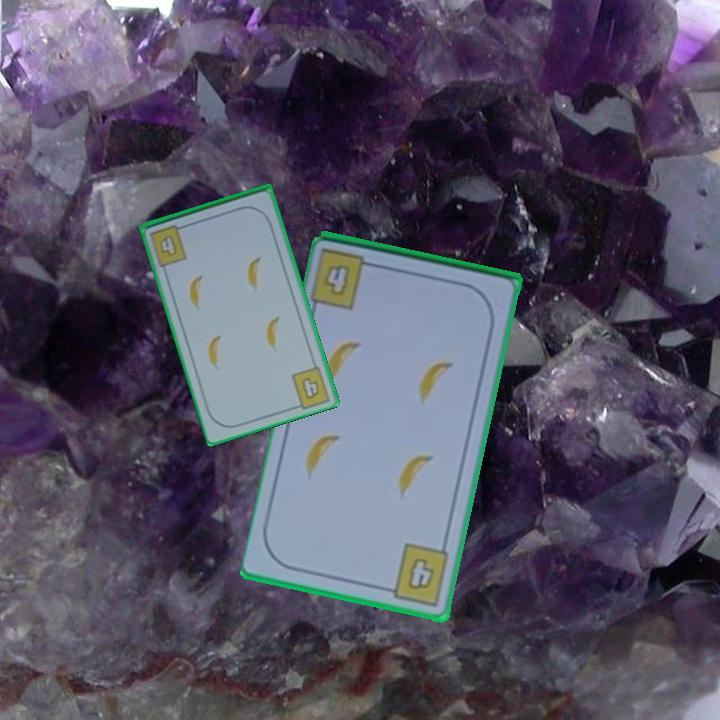4b: (380, 540, 453, 609), (146, 221, 190, 268), (320, 260, 354, 300), (298, 374, 323, 403)
